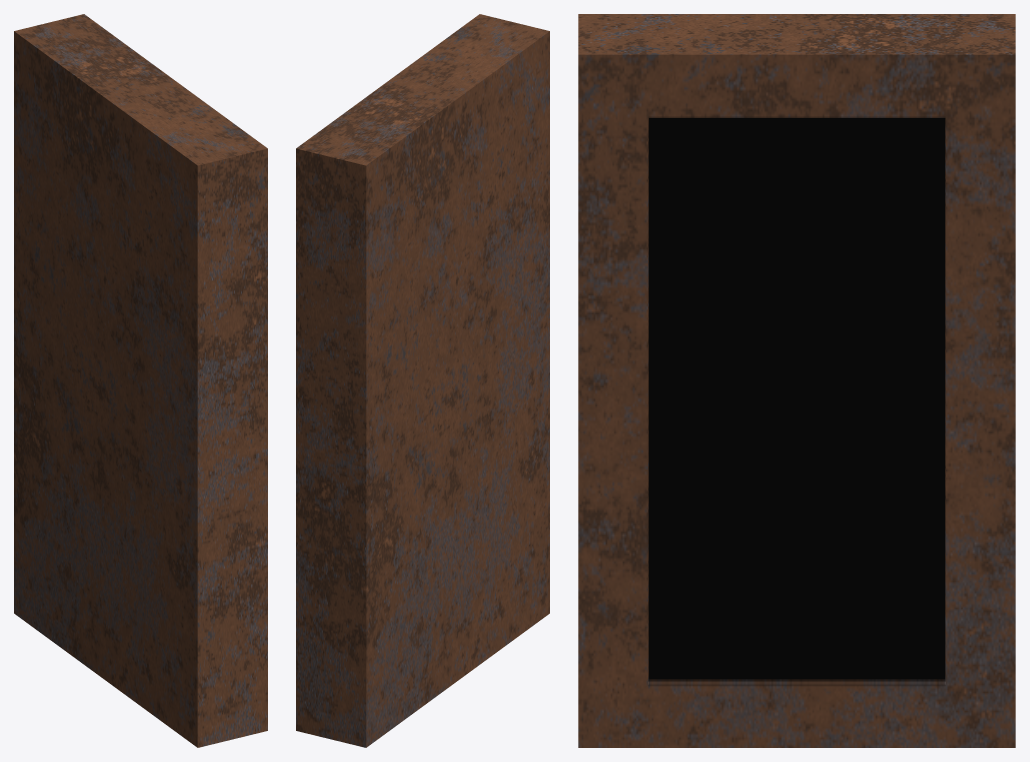
The model's file is Workshop Button.fbx.
The picture shows the model from 3 angles, left to right: view 1: azimuth 30°, elevation 25°; view 2: azimuth 150°, elevation 25°; view 3: azimuth 270°, elevation 25°; orthographic projection. The views are drawn at different scales.
Parts seen in each view (by area): view 1: Baked Button Left; view 2: Baked Button Left; view 3: Baked Button Left.
Part boxes in pixels (x1=…): Baked Button Left: x1=14, y1=14, x2=267, y2=747; Baked Button Left: x1=296, y1=14, x2=549, y2=747; Baked Button Left: x1=578, y1=14, x2=1015, y2=747.
Size of the model in its own units: 1.41 by 11.16 by 6.39.
1 material, 1 textured.
